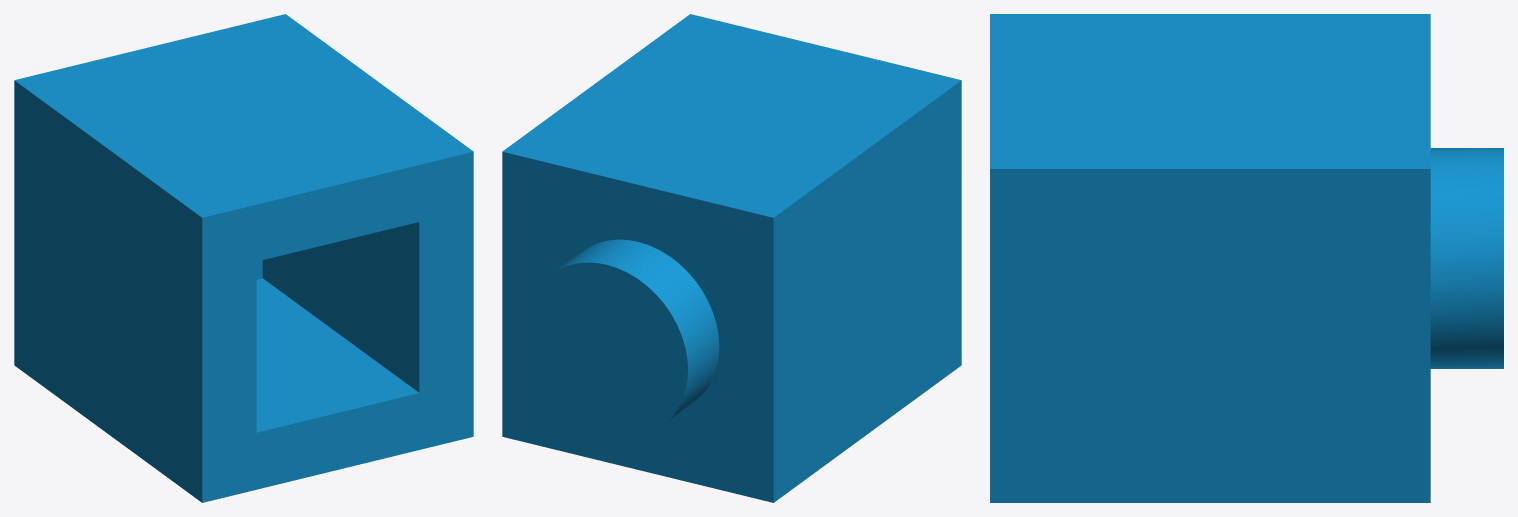
Rendered from lago 1 oscuro.dae.
3 renders of one model, left to right at view 1: azimuth 30°, elevation 25°; view 2: azimuth 150°, elevation 25°; view 3: azimuth 270°, elevation 25°, orthographic. The views are drawn at different scales.
Parts seen in each view (by area): view 1: Inner-Node-UntitledModel_dot_io-0; view 2: Inner-Node-UntitledModel_dot_io-0; view 3: Inner-Node-UntitledModel_dot_io-0.
Boxes of the visible parts, x1,y1,x2,y2 form: Inner-Node-UntitledModel_dot_io-0: (14,14,473,502); Inner-Node-UntitledModel_dot_io-0: (502,14,961,502); Inner-Node-UntitledModel_dot_io-0: (990,14,1503,502).
Bounding box in the file's own units: 19.75 × 19.82 × 27.65.
